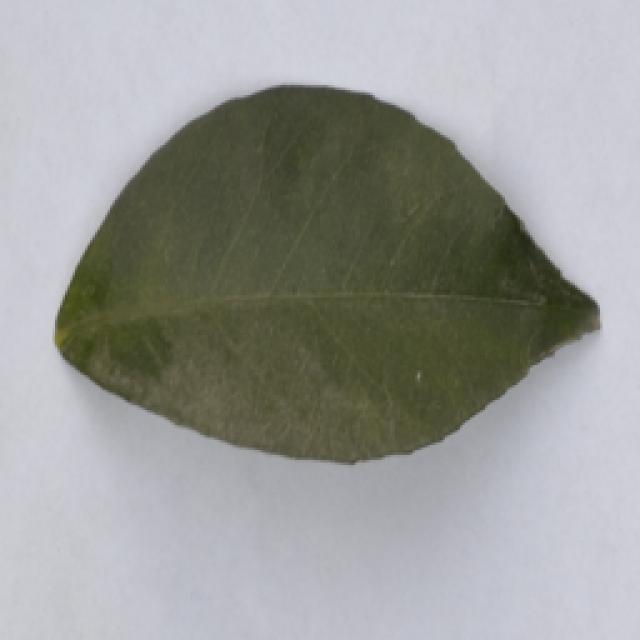healthy: (52, 78, 614, 481)
